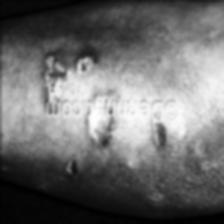Unclassified: (88, 114, 116, 148), (70, 49, 98, 75), (58, 152, 82, 180), (150, 120, 169, 152)
